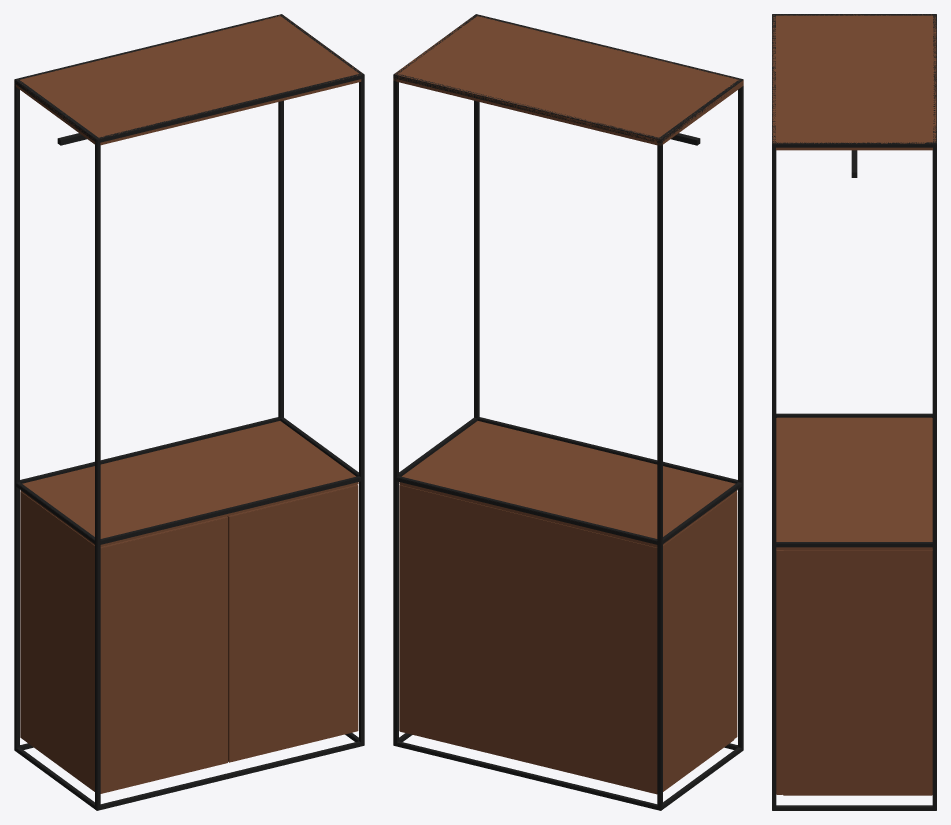
The picture shows the model from 3 angles, left to right: view 1: azimuth 30°, elevation 25°; view 2: azimuth 150°, elevation 25°; view 3: azimuth 270°, elevation 25°; orthographic projection.
Parts seen in each view (by area): view 1: poel-modular-wardrobe; view 2: poel-modular-wardrobe; view 3: poel-modular-wardrobe.
Boxes of the visible parts, <box> form: poel-modular-wardrobe: <box>14,14,364,810</box>; poel-modular-wardrobe: <box>393,14,743,810</box>; poel-modular-wardrobe: <box>772,14,936,810</box>.
Size of the model in its own units: 0.84 by 2.01 by 0.45.
